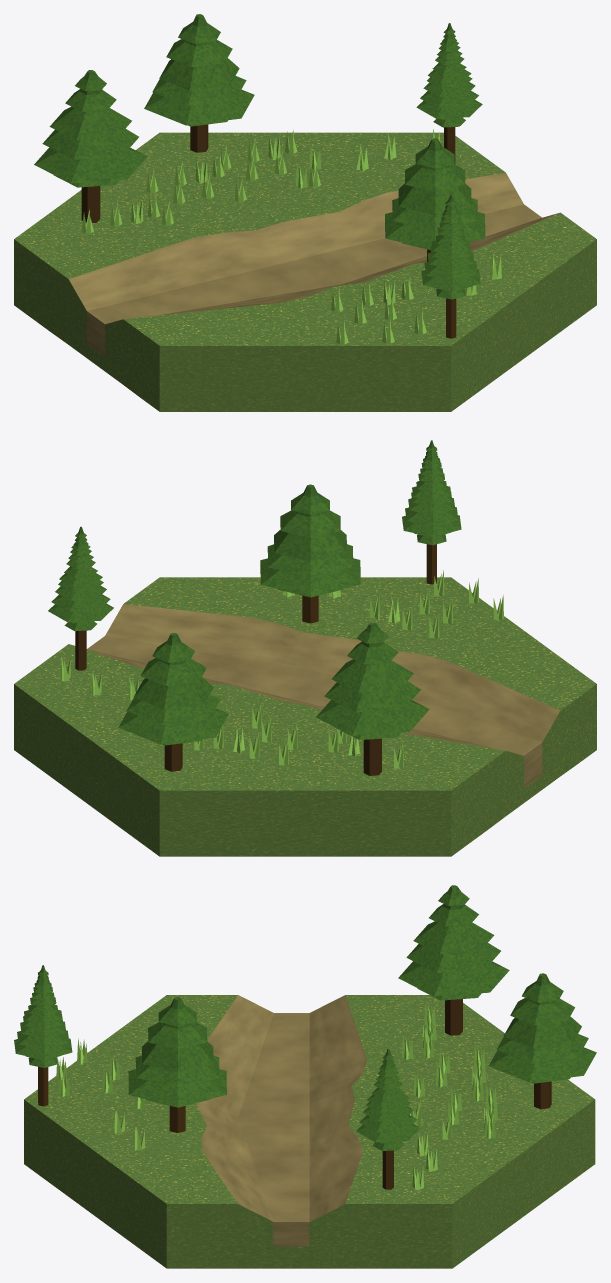
The model's file is Hex_River_Test.fbx.
3 views of the same model, one above another, from view 1: azimuth 30°, elevation 25°; view 2: azimuth 150°, elevation 25°; view 3: azimuth 270°, elevation 25° (orthographic). The views are drawn at different scales.
Visible parts, largest first — view 1: River Hex, Tree.003, Tree Large.003, Tree Tall.002, River Grass; view 2: River Hex, Tree.003, Tree Large.003, Tree Tall.002, River Grass; view 3: River Hex, Tree.003, Tree Large.003, Tree Tall.002, River Grass.
Boxes of the visible parts, x1,y1,x2,y2 form: River Hex: [14, 132, 596, 411]; Tree.003: [144, 14, 485, 261]; Tree Large.003: [34, 70, 147, 222]; Tree Tall.002: [416, 23, 482, 338]; River Grass: [81, 129, 501, 345]; River Hex: [14, 577, 596, 856]; Tree.003: [118, 484, 360, 771]; Tree Large.003: [316, 622, 429, 775]; Tree Tall.002: [48, 440, 461, 670]; River Grass: [60, 570, 503, 769]; River Hex: [24, 995, 595, 1268]; Tree.003: [128, 973, 596, 1132]; Tree Large.003: [398, 885, 509, 1035]; Tree Tall.002: [14, 965, 420, 1189]; River Grass: [56, 1002, 497, 1190].
Size of the model in its own units: 346 by 162 by 408.
Materials: 9 (9 with a texture image).
